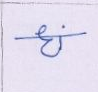e_matra: (34, 24, 46, 36)
